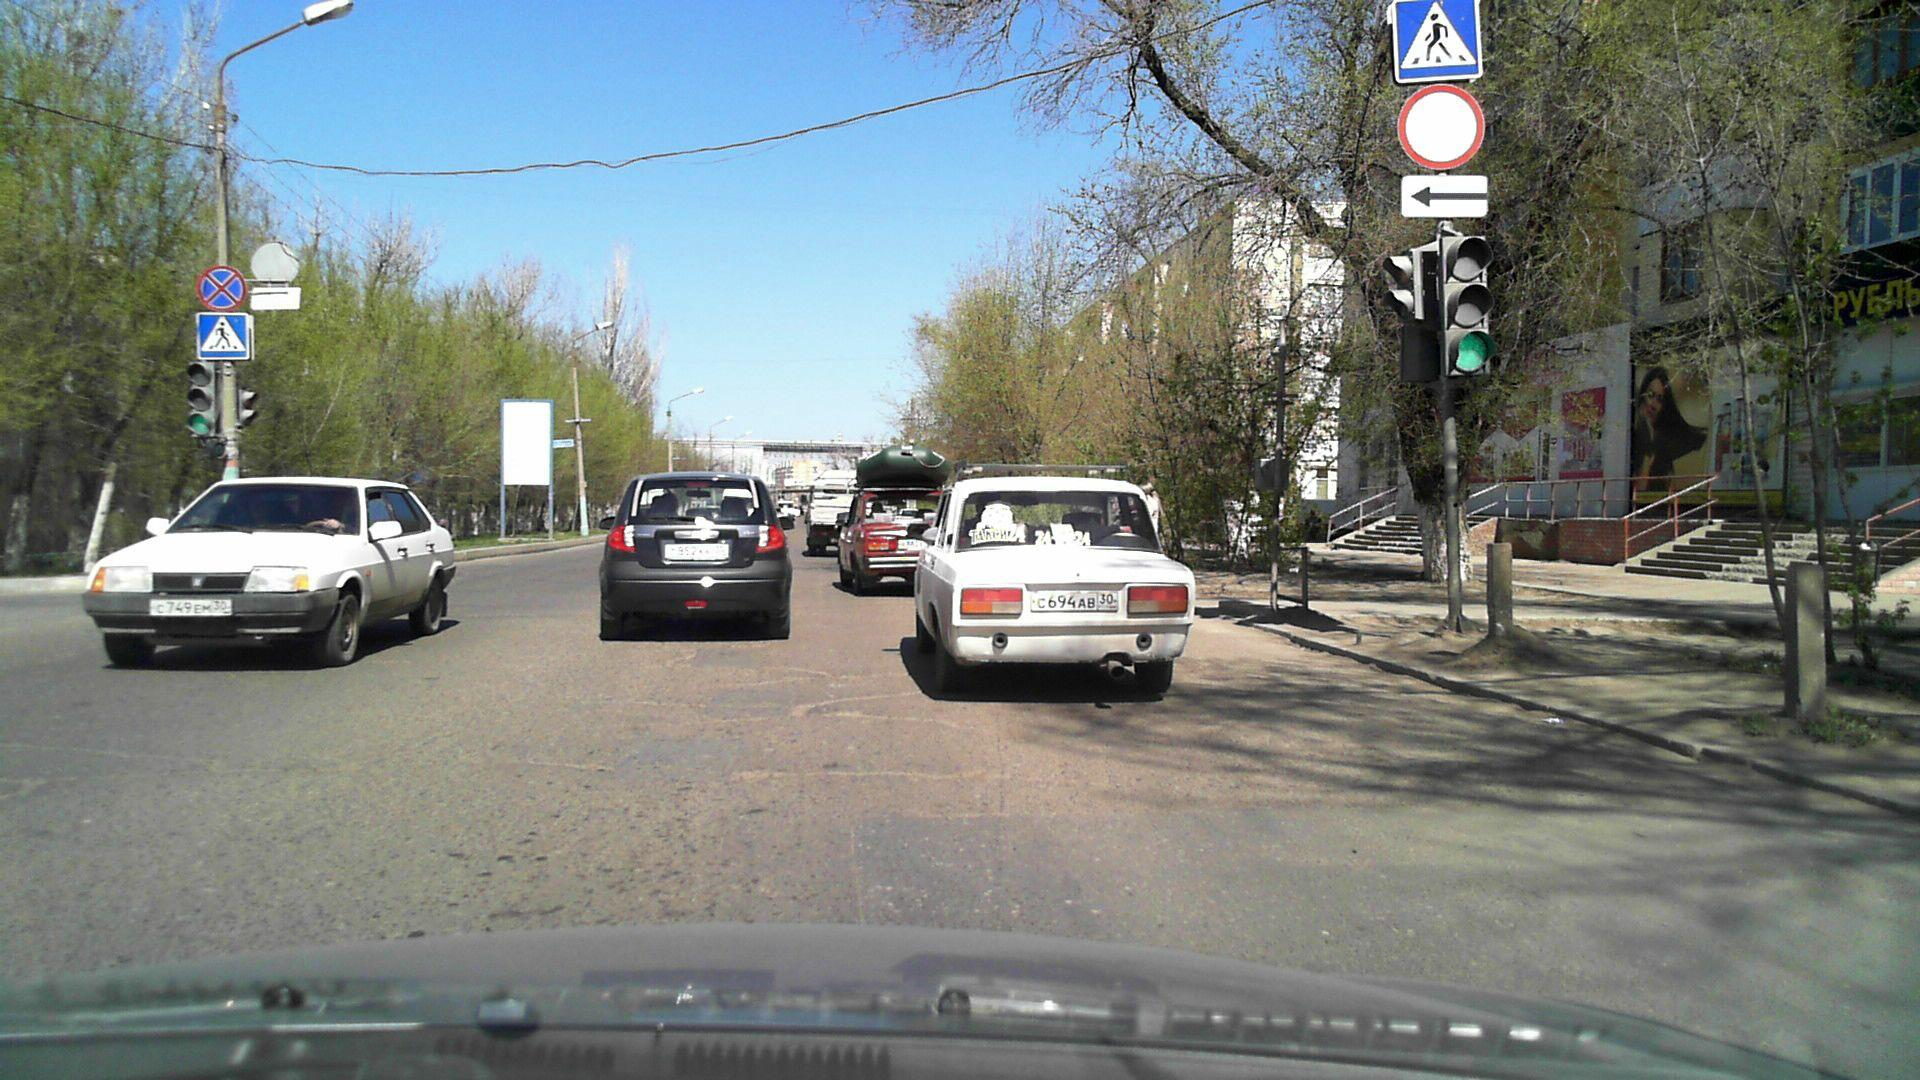3_2: (1399, 86, 1484, 169)
3_27: (198, 262, 244, 313)
5_19_1: (1393, 0, 1486, 79)
5_19_2: (198, 314, 249, 361)
8_3_2: (1400, 175, 1486, 218)
